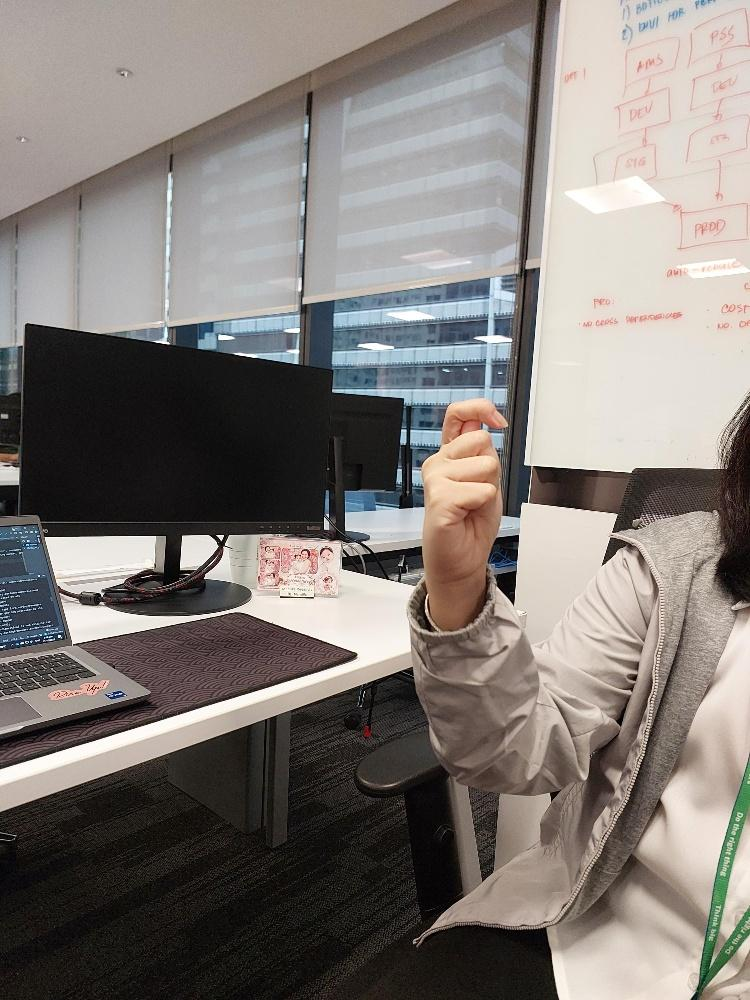t: (420, 398, 511, 586)
